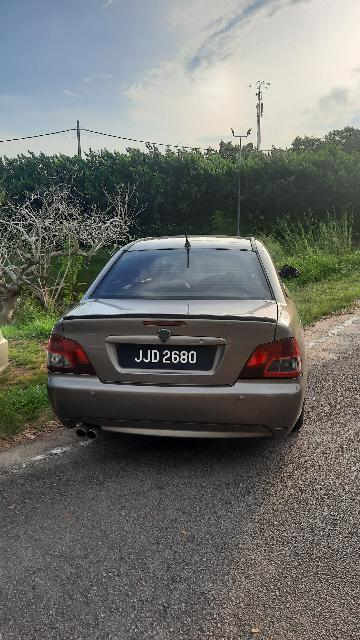License_Plate: (118, 326, 230, 378)
car: (43, 226, 318, 469)
